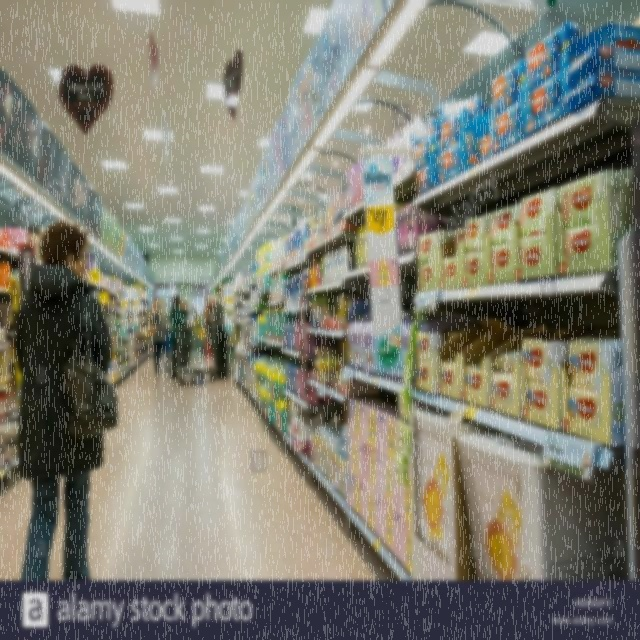pessoa: (14, 217, 120, 581), (210, 284, 228, 381), (168, 294, 187, 379), (148, 295, 168, 375), (204, 295, 220, 375), (128, 310, 150, 360), (160, 321, 173, 374), (191, 305, 201, 349), (179, 300, 192, 328), (201, 296, 212, 325), (190, 306, 198, 334), (150, 296, 158, 310), (165, 297, 173, 311), (150, 336, 154, 354), (182, 299, 188, 310)
